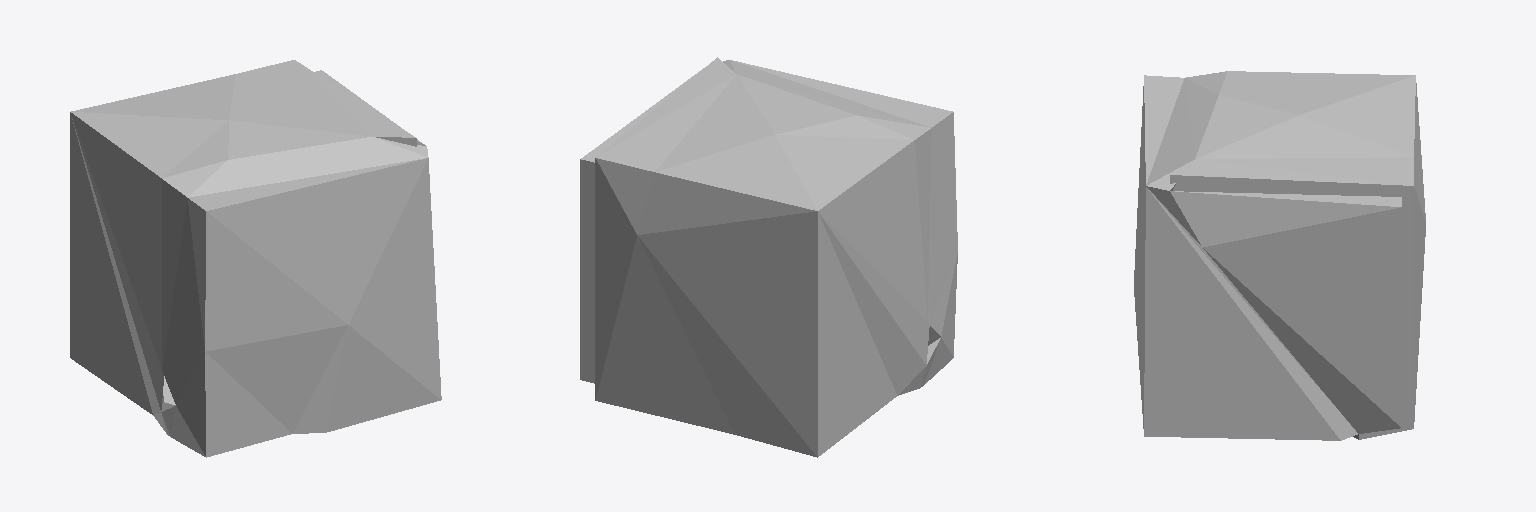
The model's file is Shatterd02.obj.
The picture shows the model from 3 angles: view 1: azimuth 30°, elevation 25°; view 2: azimuth 150°, elevation 25°; view 3: azimuth 270°, elevation 25°; orthographic projection.
Visible parts, largest first — view 1: Shatterd02; view 2: Shatterd02; view 3: Shatterd02.
Boxes of the visible parts, <box> form: Shatterd02: <box>70,60,441,457</box>; Shatterd02: <box>580,57,957,457</box>; Shatterd02: <box>1134,71,1425,440</box>.
Bounding box in the file's own units: 2.18 × 2.18 × 2.18.